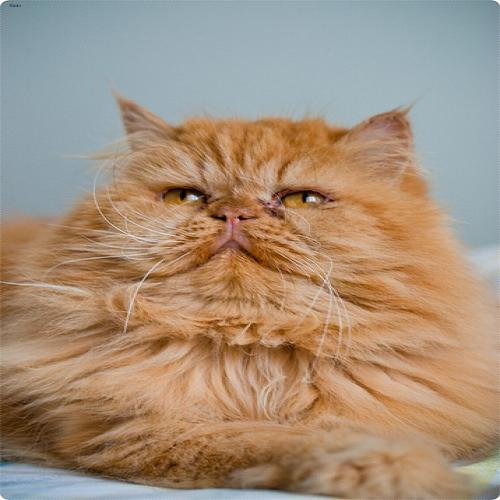persian: (89, 92, 441, 361)
